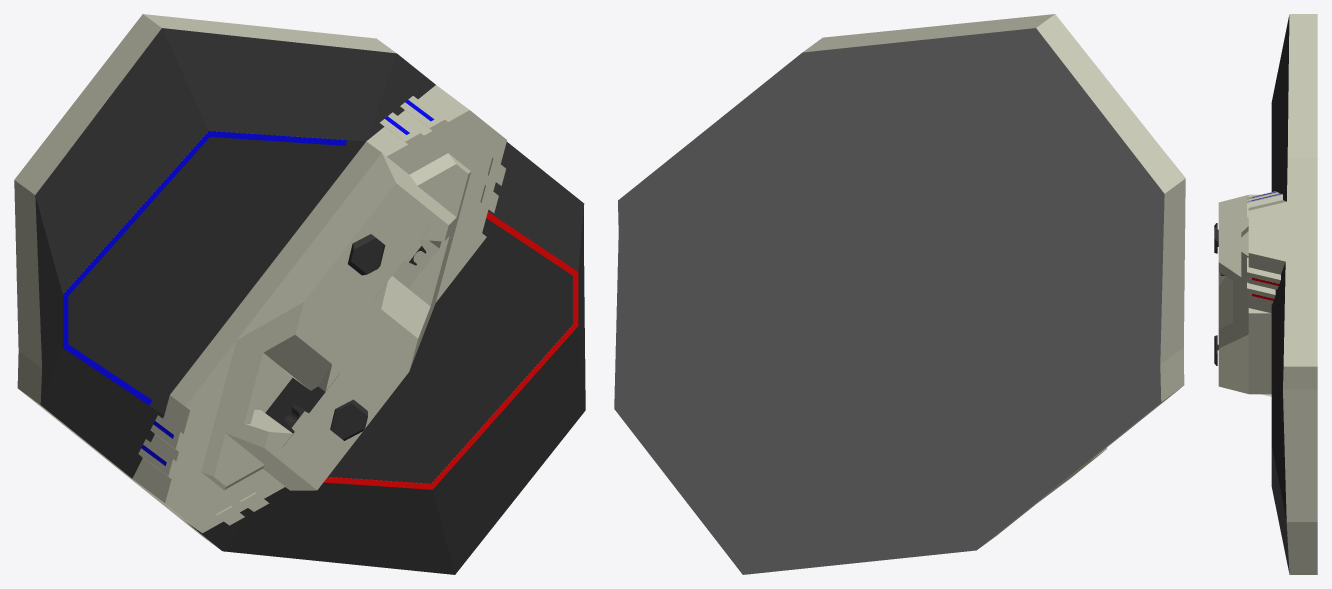
Rendered from centre-platform-collision.glb.
3 renders of one model, left to right at view 1: azimuth 30°, elevation 25°; view 2: azimuth 150°, elevation 25°; view 3: azimuth 270°, elevation 25°, orthographic. The views are drawn at different scales.
Parts seen in each view (by area): view 1: source_13267333_0006_1_1; view 2: source_13267333_0006_1_1; view 3: source_13267333_0006_1_1.
Part boxes in pixels (x1,y1,x2,y2): source_13267333_0006_1_1: (14, 14, 585, 574); source_13267333_0006_1_1: (614, 14, 1185, 574); source_13267333_0006_1_1: (1214, 14, 1317, 574).
Bounding box in the file's own units: 4.08 × 4.38 × 0.9005.
